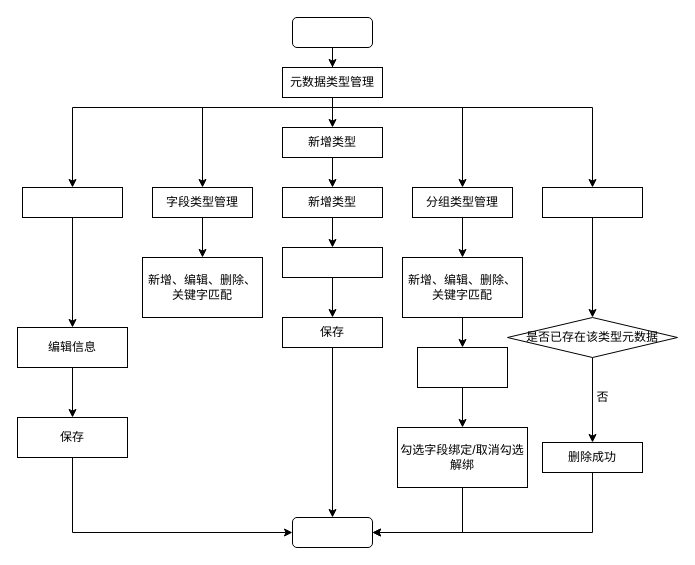
This 695x565 diagram has some shape labels left out. The centre of each missing label's shape, as x and y in pixels:
"分组字段管理" belongs at (x=462, y=367).
"删除类型" belongs at (x=592, y=202).
"填写信息" belongs at (x=332, y=262).
"开始" belongs at (x=332, y=32).
"结束" belongs at (x=332, y=532).
"编辑类型" belongs at (x=72, y=202).
